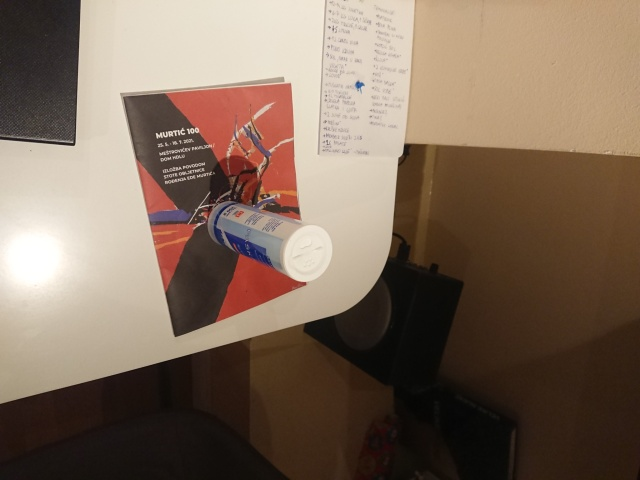Solana Pag Fine Sea Salt 250g: (205, 198, 335, 285)
